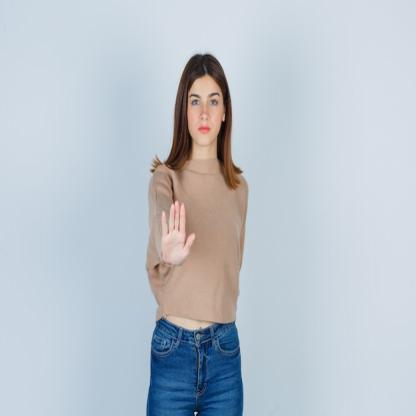stop: (160, 195, 197, 270)
